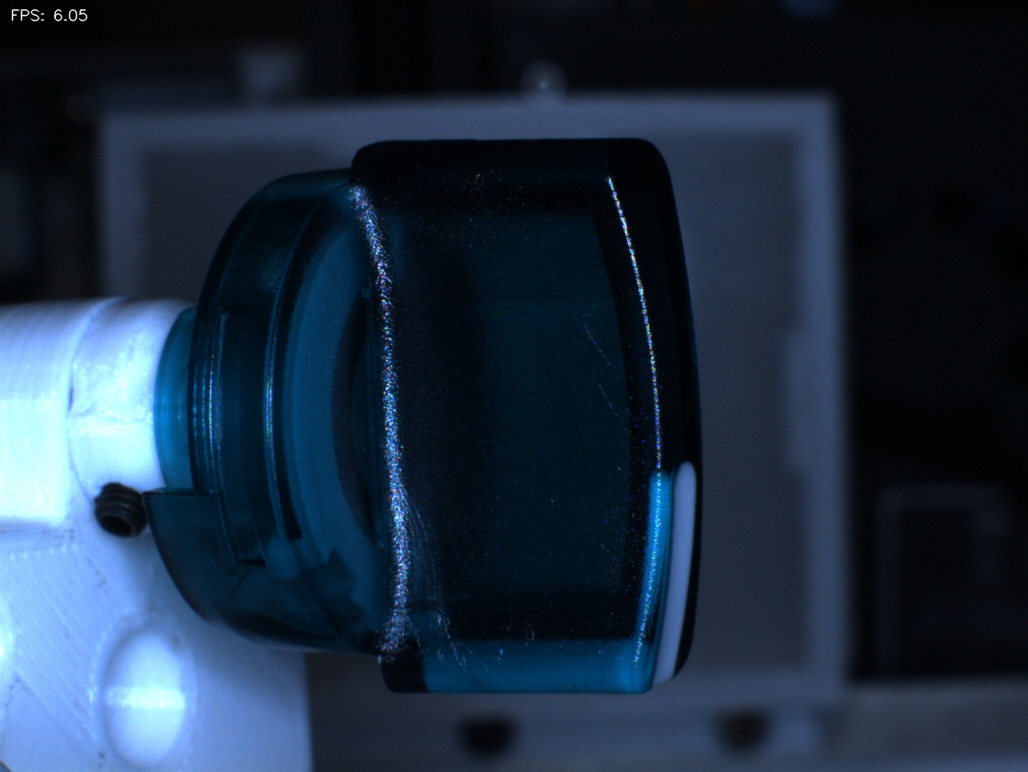Givrage: (379, 465, 487, 681), (555, 291, 636, 436)
